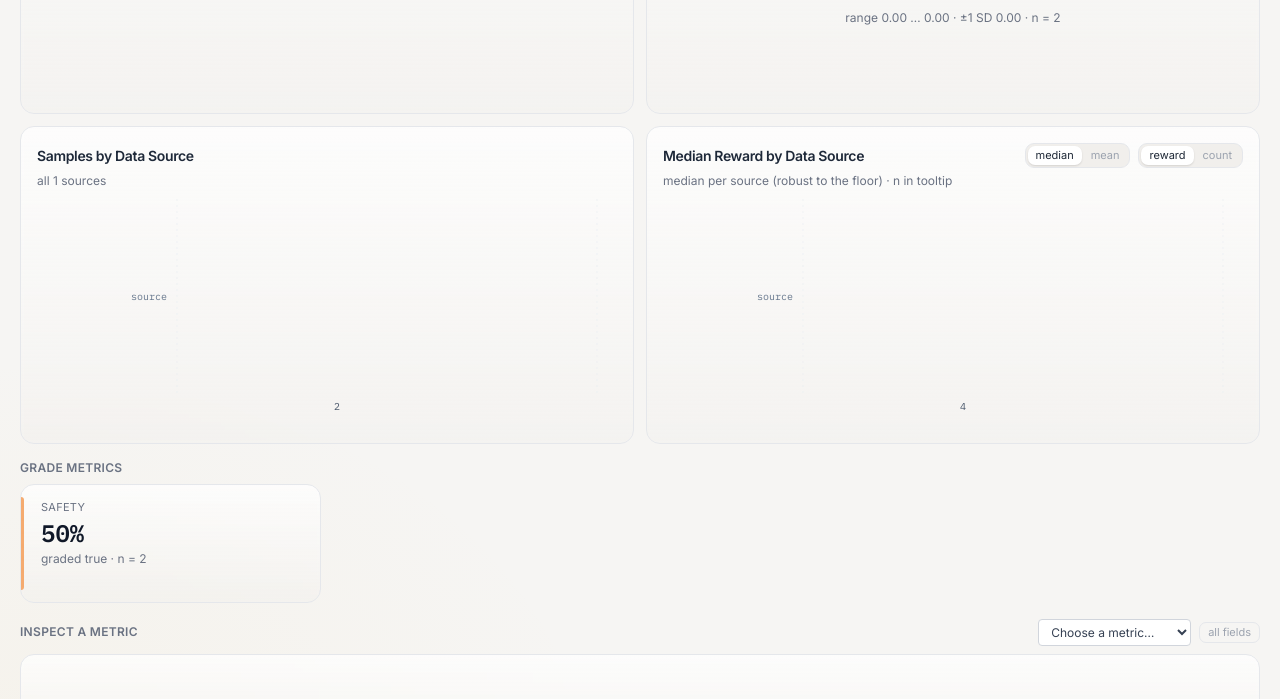
Scenario: AnalysisView › makes boolean grade tiles clickable to open the inspector
(page scrolled)
Click the button with aria-label "Inspect safety": (63, 507) [20,484,321,603]
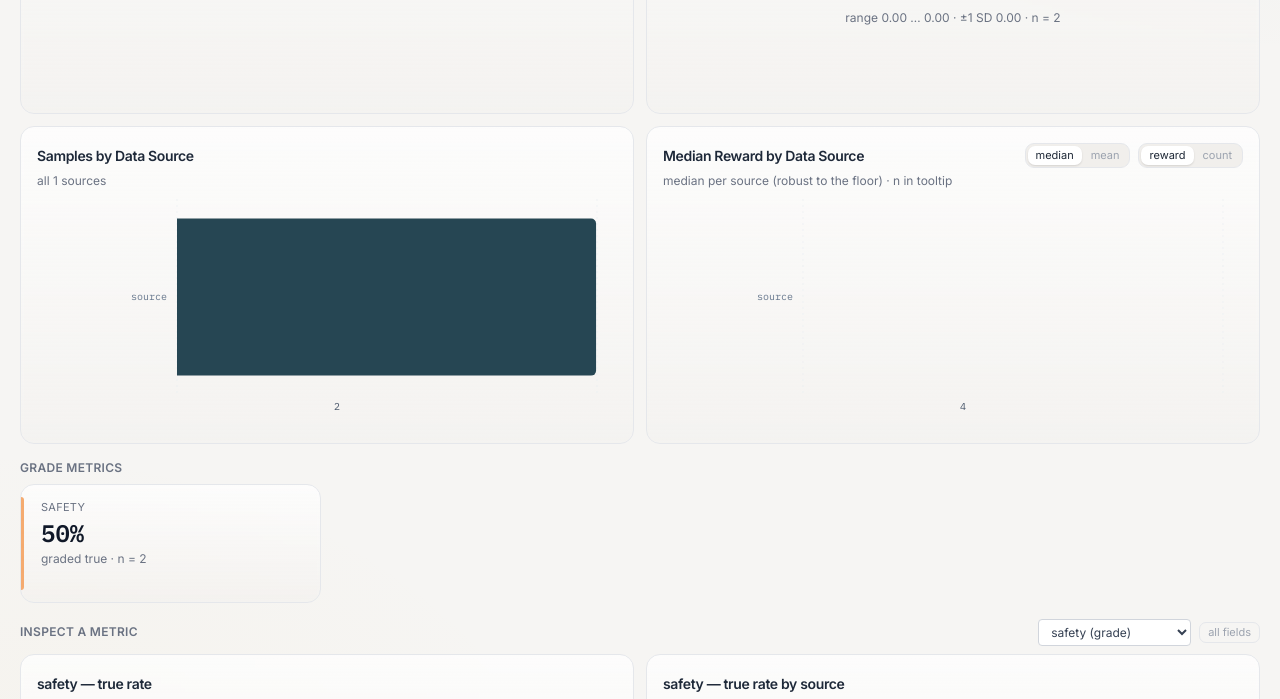
Result: the heading "safety — true rate" is shown at [37,674,152,694]
